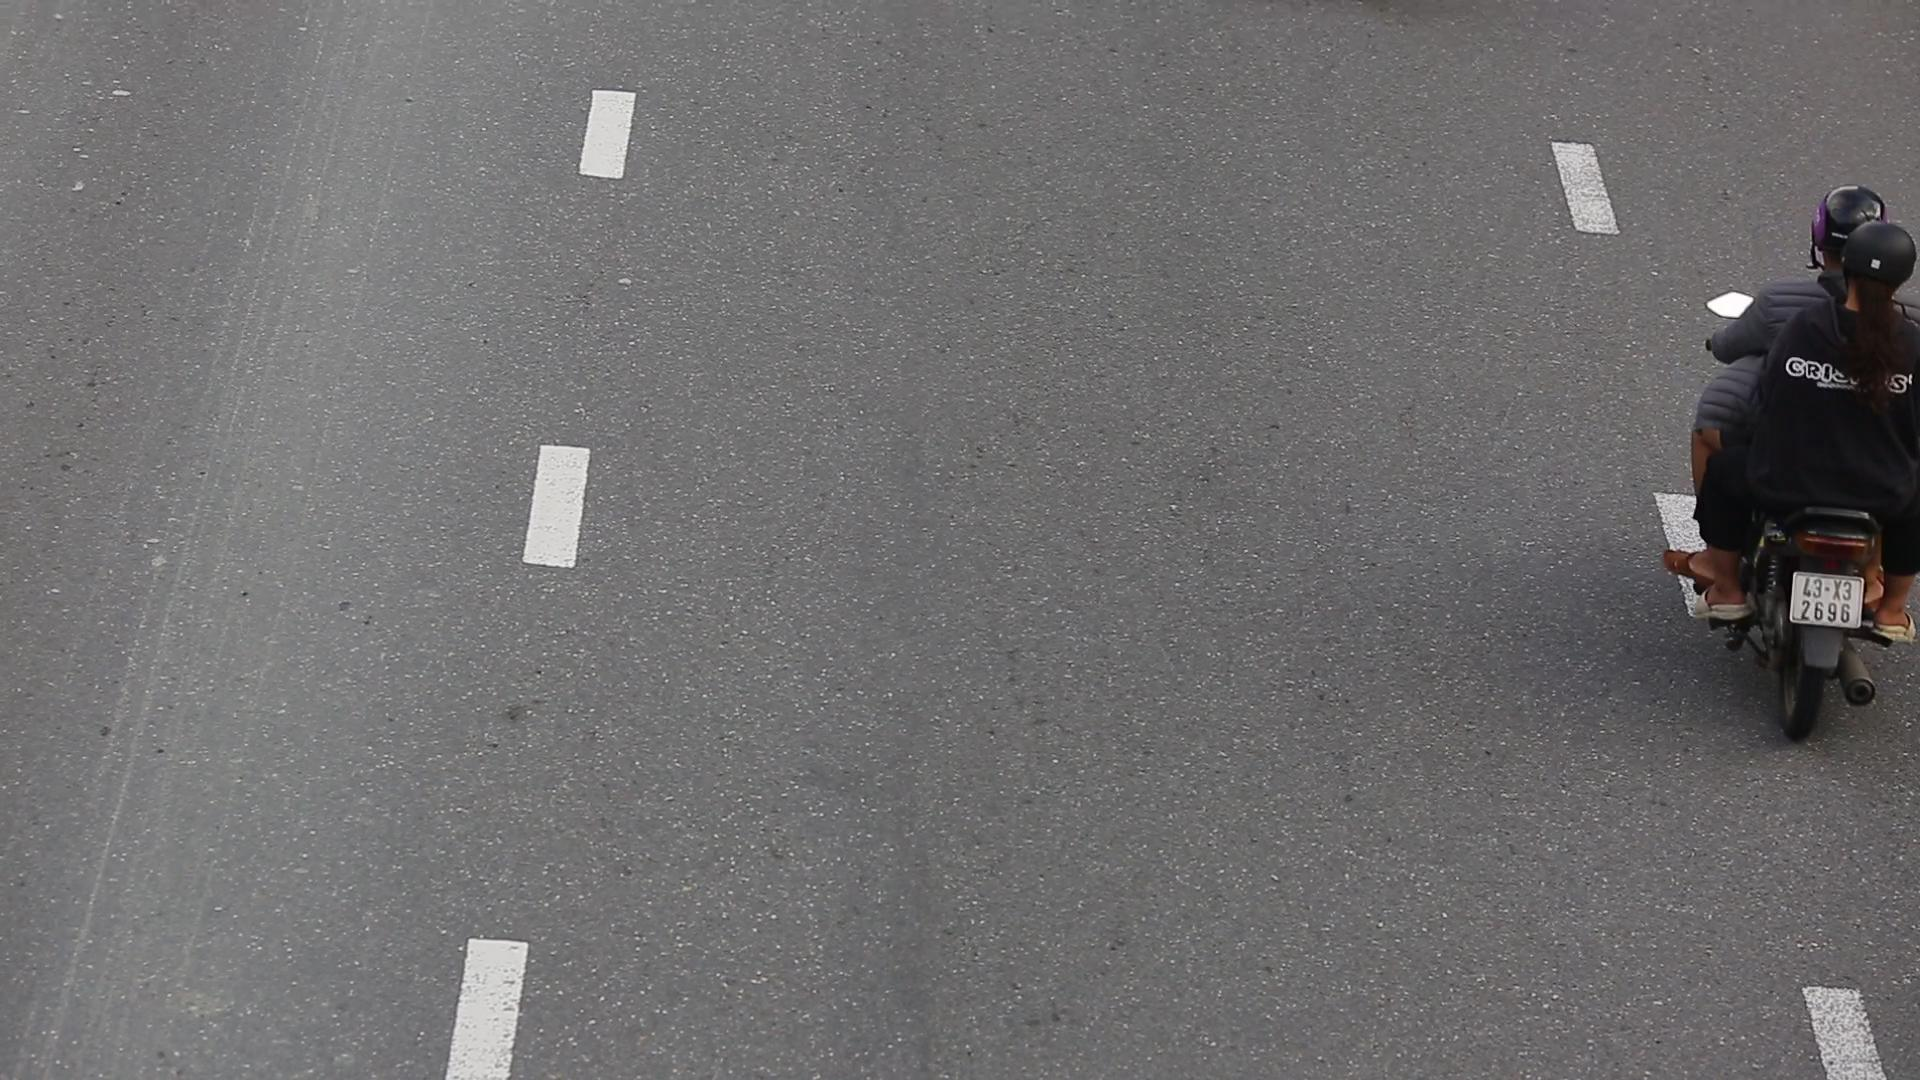motobike: (1681, 167, 1920, 786)
